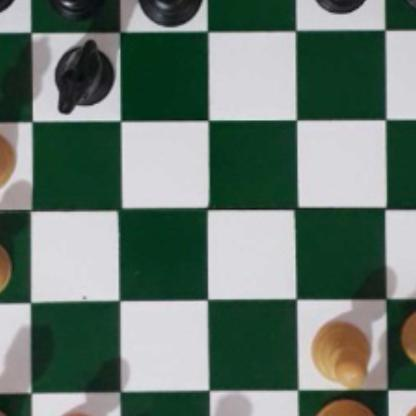black-bishop: (132, 0, 204, 29)
black-knight: (50, 35, 117, 113)
black-pawn: (46, 0, 106, 18), (309, 0, 370, 10), (0, 0, 16, 14), (400, 0, 416, 9)
white-bishop: (0, 124, 12, 193)
white-king: (310, 398, 385, 416)
white-knight: (400, 303, 416, 379)
white-pawn: (309, 316, 372, 385), (0, 234, 14, 301), (44, 409, 107, 416), (398, 400, 416, 416)
white-rook: (0, 404, 16, 416)
